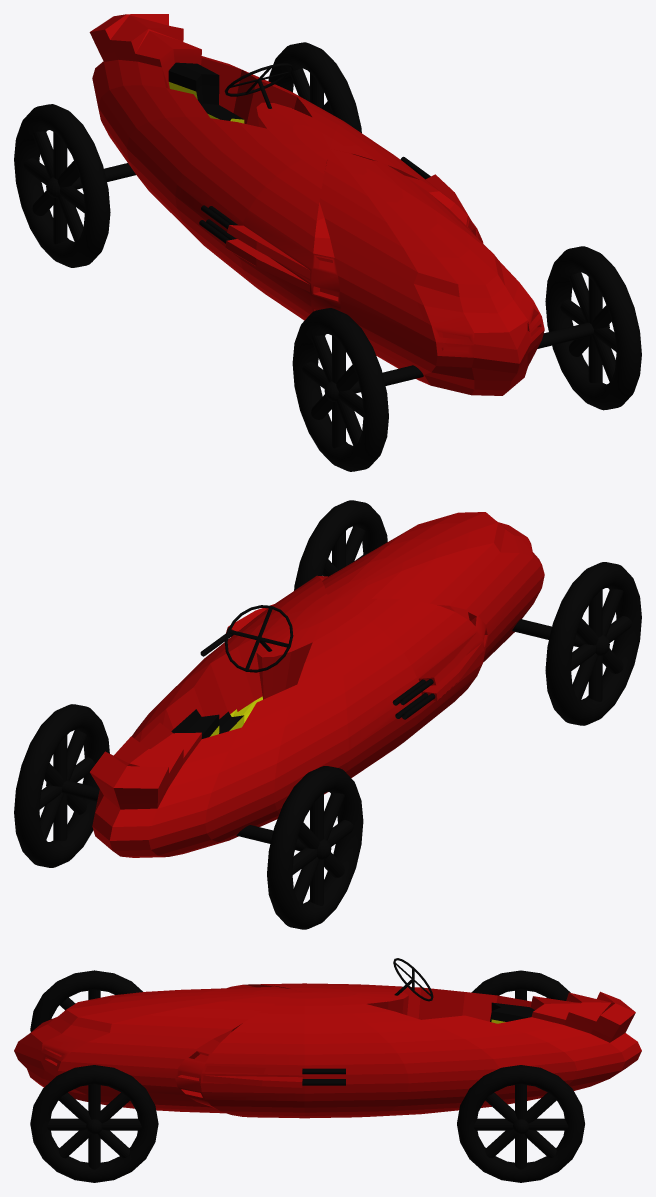
The model's file is ChicharritoModel.fbx.
3 renders of one model, top to bottom at view 1: azimuth 30°, elevation 25°; view 2: azimuth 150°, elevation 25°; view 3: azimuth 270°, elevation 25°, orthographic. The views are drawn at different scales.
Parts seen in each view (by area): view 1: pCylinder19, group4_pTorus3, group2_pTorus3, group1_pTorus3, group3_pTorus3; view 2: pCylinder19, group2_pTorus3, group4_pTorus3, group3_pTorus3, group1_pTorus3; view 3: pCylinder19, group1_pTorus3, group3_pTorus3, group2_pTorus3, group4_pTorus3.
Boxes of the visible parts, bbox=[...] form: pCylinder19: bbox=[46, 14, 609, 401]; group4_pTorus3: bbox=[14, 104, 110, 267]; group2_pTorus3: bbox=[292, 308, 388, 471]; group1_pTorus3: bbox=[545, 246, 641, 410]; group3_pTorus3: bbox=[268, 42, 361, 132]; pCylinder19: bbox=[46, 512, 609, 859]; group2_pTorus3: bbox=[545, 562, 641, 725]; group4_pTorus3: bbox=[267, 766, 363, 929]; group3_pTorus3: bbox=[14, 704, 109, 867]; group1_pTorus3: bbox=[294, 500, 387, 590]; pCylinder19: bbox=[14, 958, 641, 1134]; group1_pTorus3: bbox=[30, 1065, 158, 1182]; group3_pTorus3: bbox=[457, 1065, 584, 1182]; group2_pTorus3: bbox=[30, 970, 142, 1032]; group4_pTorus3: bbox=[471, 970, 570, 1000].
Size of the model in its own units: 12.73 by 9.75 by 32.01.
